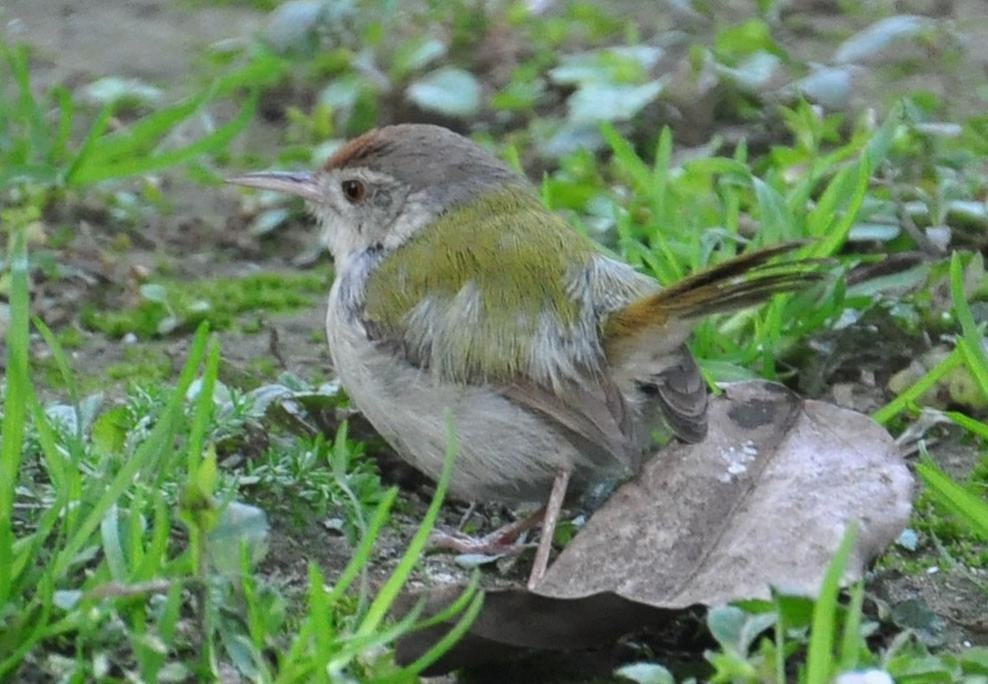tailorbird: (252, 117, 746, 541)
